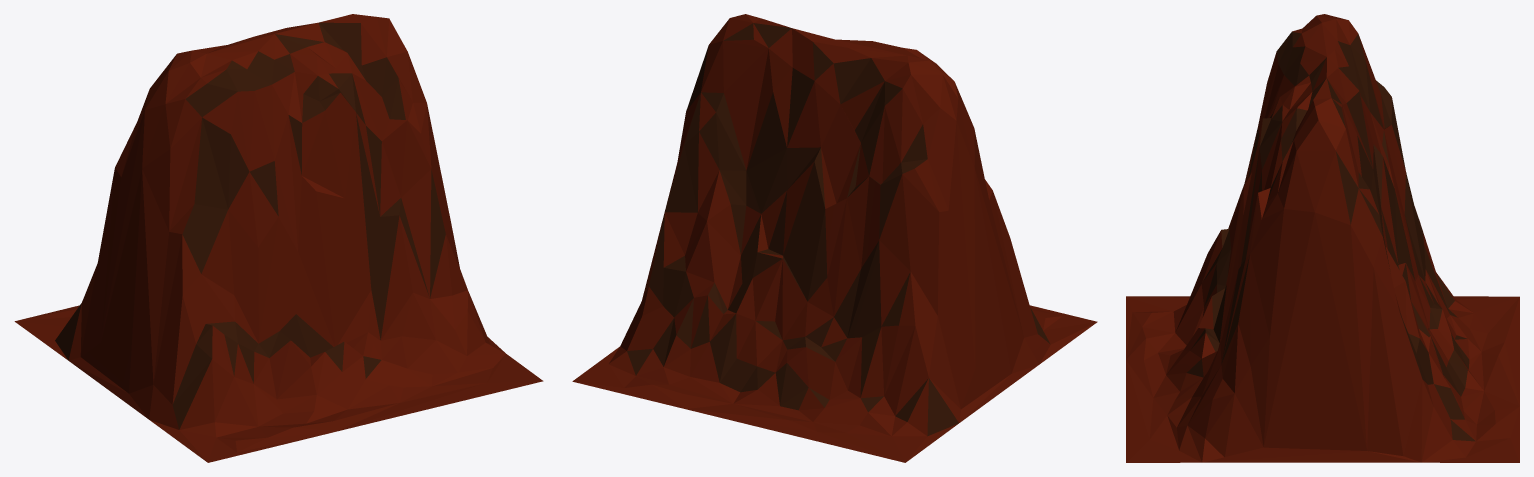
Rendered from CliffNormal_arreglat.fbx.
3 renders of one model, left to right at view 1: azimuth 30°, elevation 25°; view 2: azimuth 150°, elevation 25°; view 3: azimuth 270°, elevation 25°, orthographic. The views are drawn at different scales.
Parts seen in each view (by area): view 1: Landscape.005; view 2: Landscape.005; view 3: Landscape.005.
Boxes of the visible parts, x1,y1,x2,y2 form: Landscape.005: (14,14,543,462); Landscape.005: (572,14,1097,462); Landscape.005: (1126,14,1519,462).
Bounding box in the file's own units: 950 × 858 × 950.
